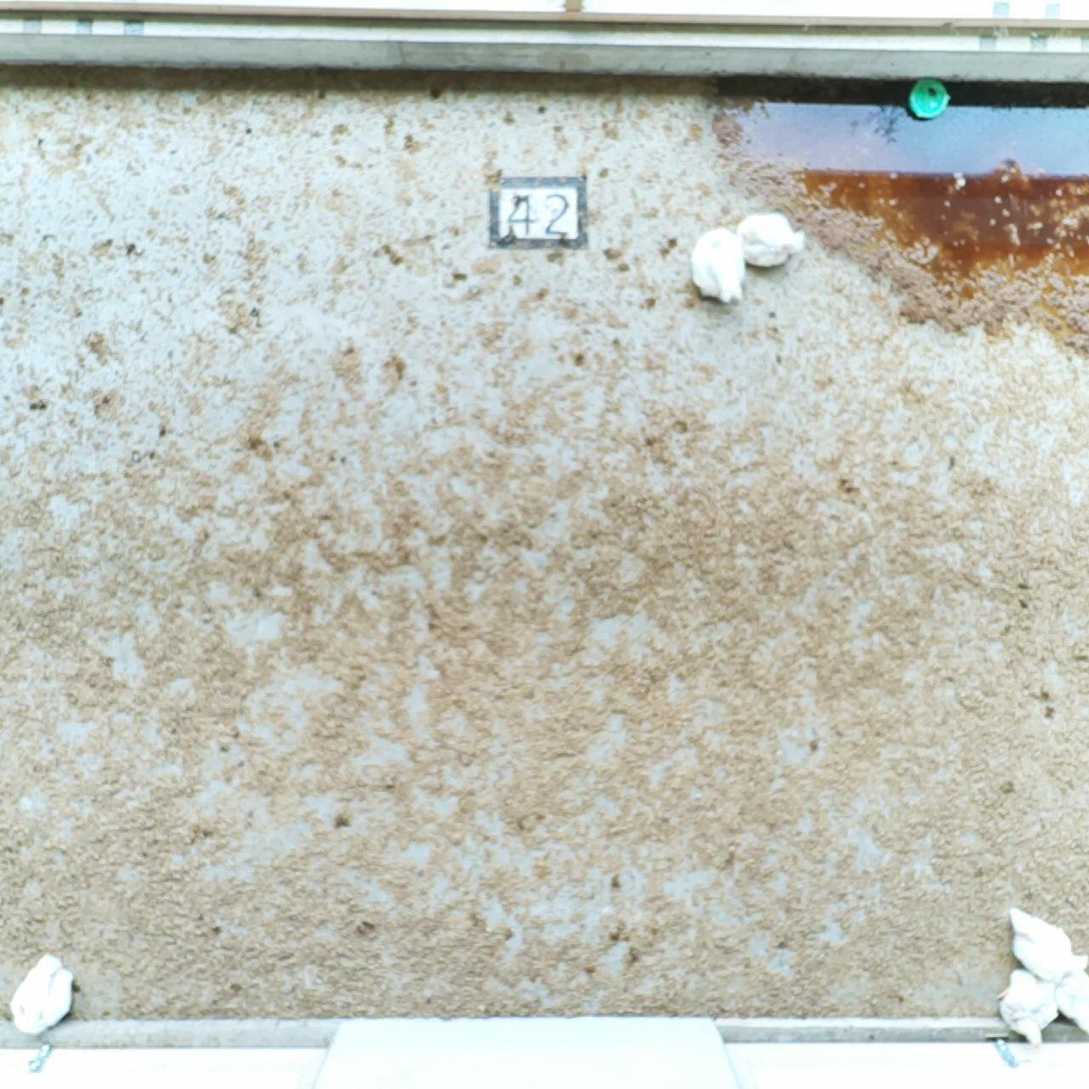chicken: (1005, 908, 1087, 978), (10, 951, 74, 1034), (733, 209, 806, 267), (1001, 973, 1058, 1044), (691, 228, 744, 303), (1057, 969, 1089, 1035)
